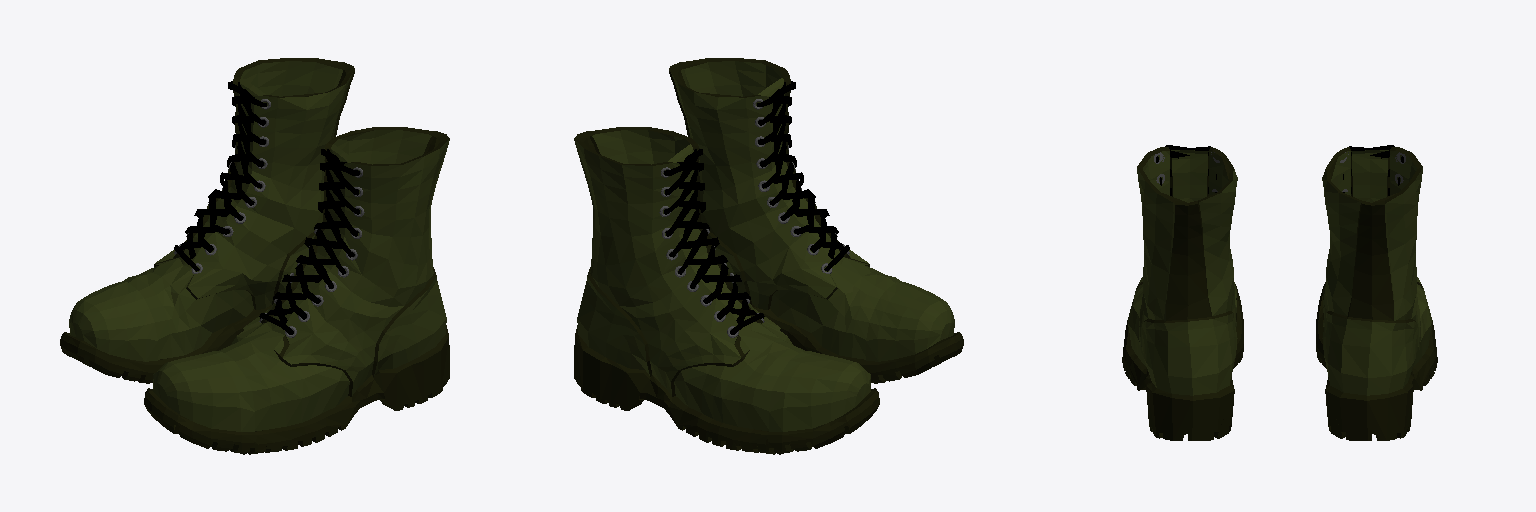
Rendered from shoes2.obj.
3 renders of one model, left to right at view 1: azimuth 30°, elevation 25°; view 2: azimuth 150°, elevation 25°; view 3: azimuth 270°, elevation 25°, orthographic.
Parts seen in each view (by area): view 1: Group_8_00, Group_8_01; view 2: Group_8_01, Group_8_00; view 3: Group_8_00, Group_8_01.
Part boxes in pixels (left/top/right/bottom): Group_8_00: left=144, top=127, right=449, bottom=454; Group_8_01: left=60, top=58, right=354, bottom=383; Group_8_01: left=574, top=127, right=879, bottom=454; Group_8_00: left=669, top=58, right=963, bottom=383; Group_8_00: left=1122, top=145, right=1243, bottom=440; Group_8_01: left=1316, top=145, right=1437, bottom=440.
Bounding box in the file's own units: 129 × 107 × 120.